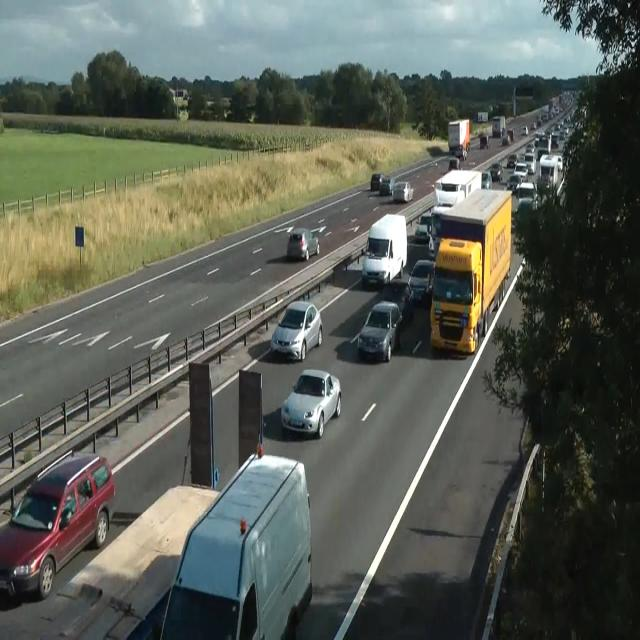bus: (280, 368, 342, 438), (270, 300, 322, 361), (357, 300, 403, 362), (286, 228, 320, 262), (414, 212, 432, 242), (392, 181, 413, 203), (506, 173, 524, 192), (379, 176, 396, 196), (370, 173, 388, 191), (488, 162, 502, 181), (448, 156, 460, 172), (454, 144, 466, 160), (481, 171, 491, 189), (553, 154, 563, 170), (506, 153, 516, 168), (522, 125, 528, 135), (530, 122, 536, 130)
car: (429, 236, 483, 354), (434, 168, 492, 207)
jeep: (158, 447, 312, 638), (0, 448, 115, 601), (406, 258, 434, 305)
minibus: (430, 188, 512, 354), (361, 212, 407, 286), (539, 153, 561, 192), (448, 118, 470, 156), (492, 115, 506, 137), (480, 134, 490, 150), (477, 111, 488, 123)
